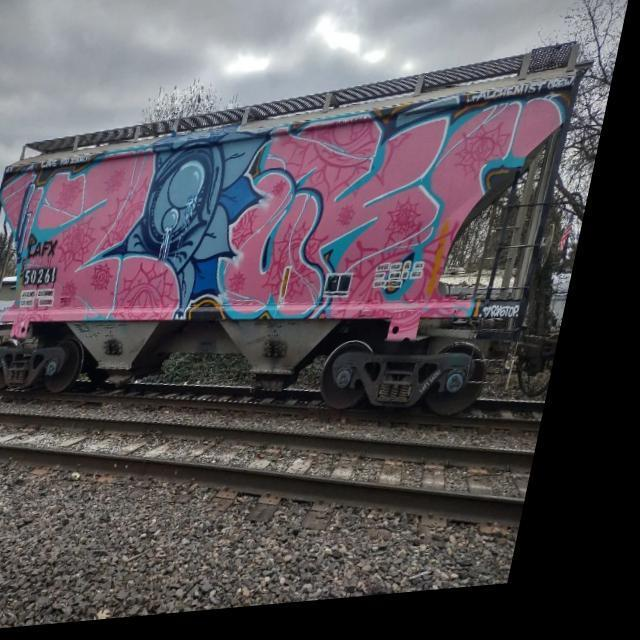-: (0, 85, 586, 328), (24, 254, 76, 312)
